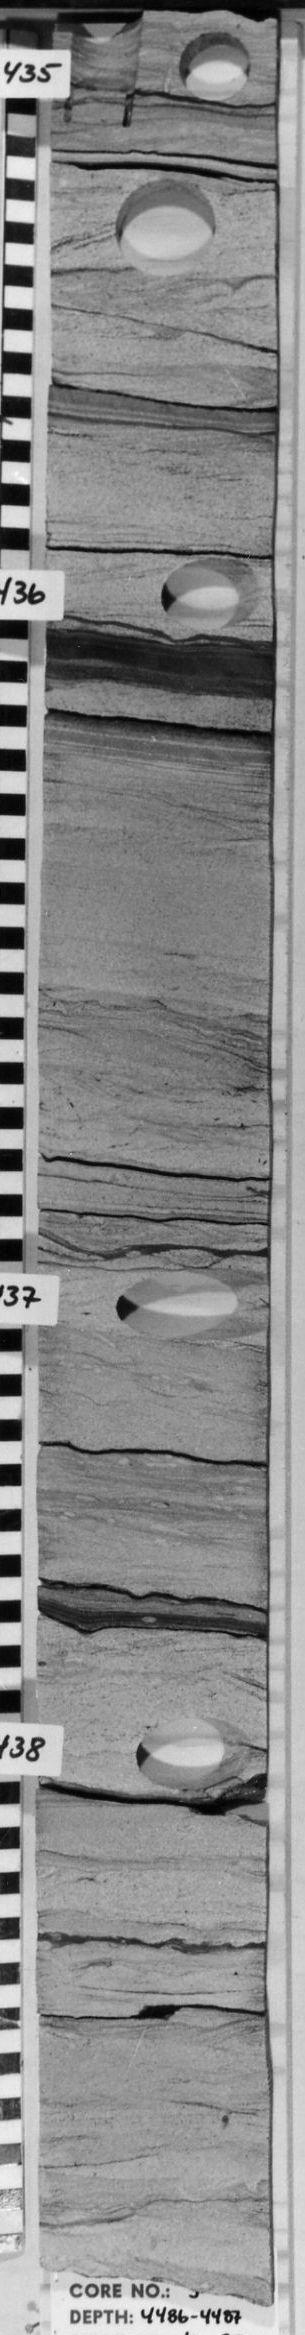hplug: (126, 1713, 254, 1790), (109, 1264, 243, 1337), (153, 552, 266, 637), (170, 30, 257, 104)
scal: (103, 176, 228, 280)
vplug: (65, 13, 147, 134)
